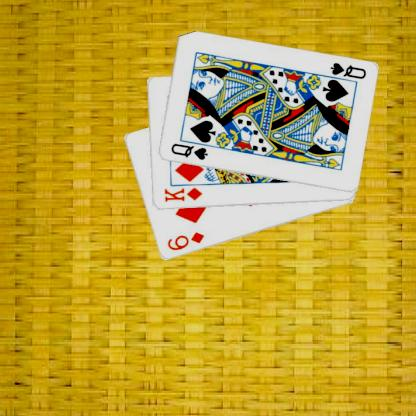6D: (164, 230, 205, 252)
KD: (162, 185, 204, 203)
QS: (168, 141, 209, 162), (327, 60, 367, 80)
